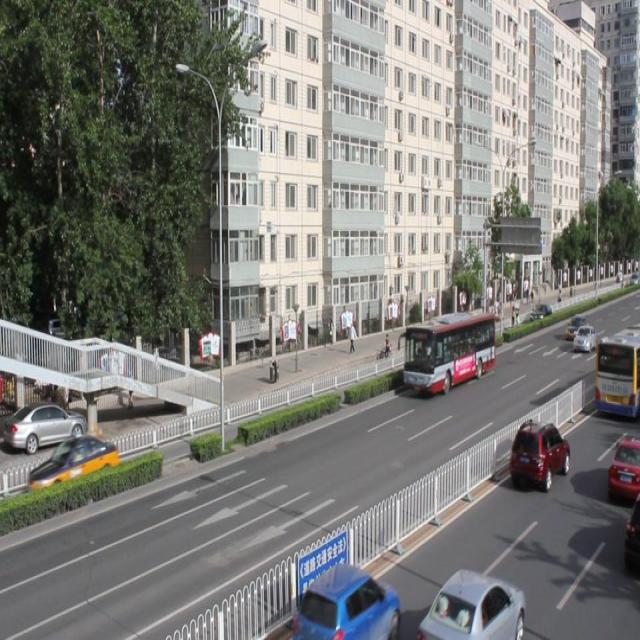car: (296, 560, 397, 640), (419, 567, 521, 640), (28, 433, 119, 493), (509, 419, 568, 486), (606, 431, 640, 498)
van: (404, 315, 495, 389), (595, 334, 640, 415)
